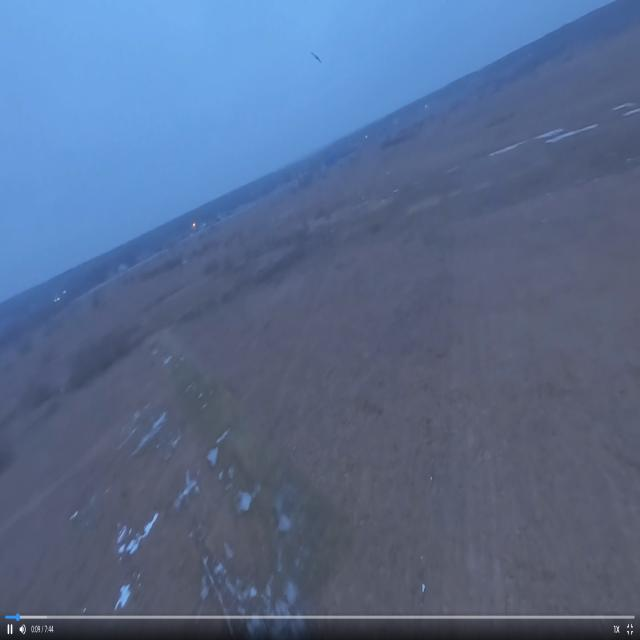planedrone: (310, 47, 322, 66)
